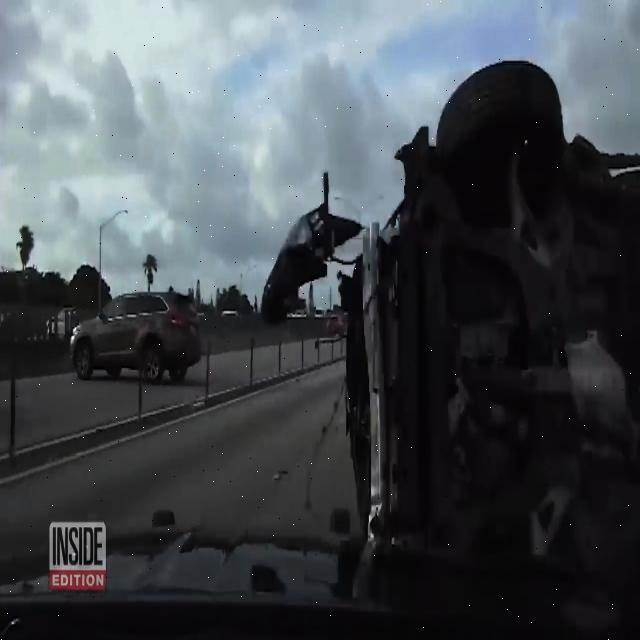accident: (350, 48, 640, 564)
